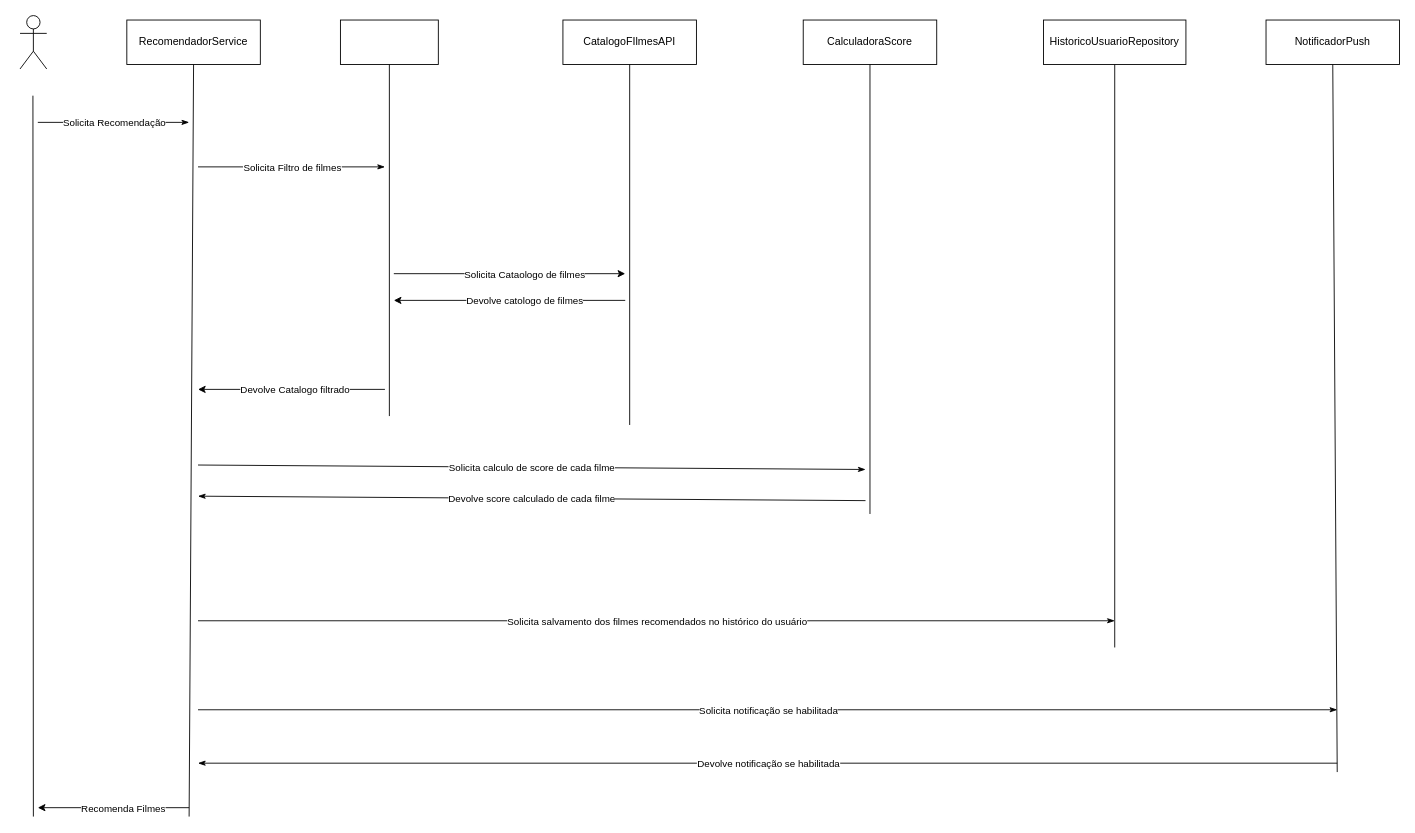
Some shapes in this 1415 by 833 pixel diagram are drawn without their labels. The shapes that lost their labels are listed below. From the top down, each one's box as (x1, y1, x2, y2) in pixels, then its label:
(19, 15, 47, 69): Usuário
(340, 19, 438, 65): FiltroFilmes
